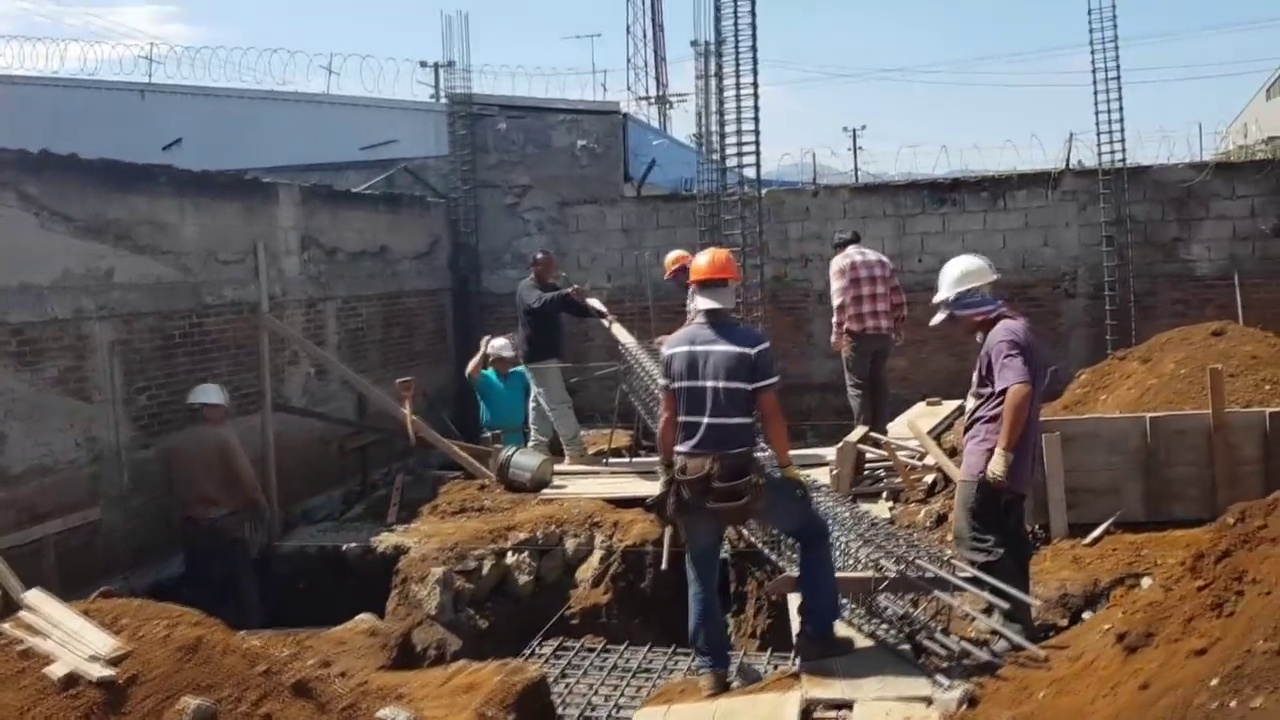helmet: (931, 259, 1003, 299), (689, 245, 740, 282), (181, 384, 231, 410), (662, 247, 691, 280), (487, 336, 515, 359)
helmet-off: (523, 252, 557, 284), (834, 229, 868, 258)
helmet-on: (932, 251, 1004, 334), (686, 248, 746, 323), (181, 384, 230, 433), (659, 244, 691, 288), (488, 338, 515, 380)
person: (655, 236, 847, 671), (931, 262, 1045, 609), (152, 381, 257, 609), (512, 250, 613, 461), (827, 225, 909, 449), (464, 332, 525, 450)
